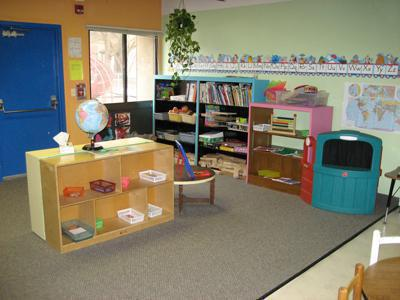Otro Obstaculo: (307, 127, 388, 224), (198, 79, 246, 181)
Puerta: (3, 27, 59, 178)
Ventana: (86, 30, 151, 105)
